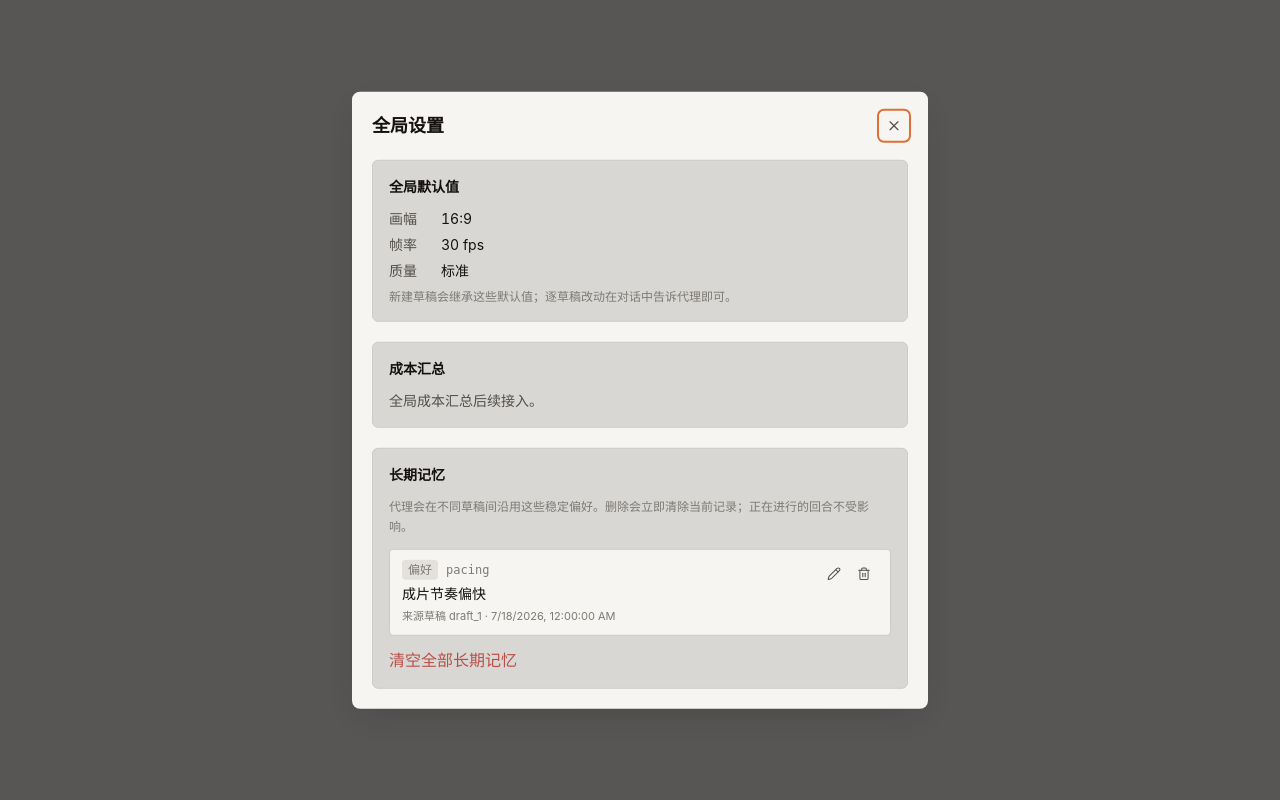
Scenario: WorkspaceSettingsDialog 长期记忆就地编辑 › 保存失败保留编辑态与草稿文本，并显示错误提示
expect the text "成片节奏偏快" is shown: met, box [402, 585, 486, 602]
Click the button named "编辑长期记忆 pacing".
click(834, 574)  # box [820, 560, 848, 588]
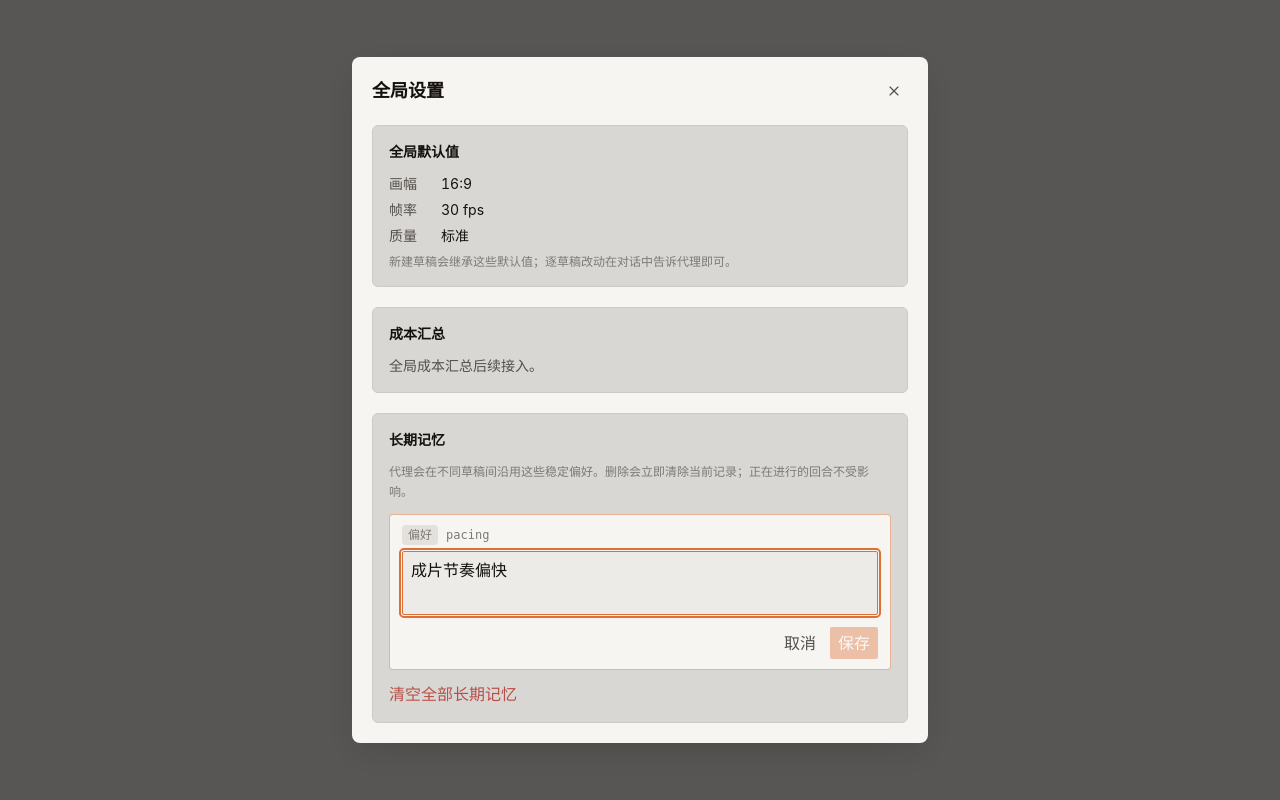
Replace the text in the text box named "编辑长期记忆 pacing" with "改了一半的草稿" at coordinates (640, 583), box [402, 551, 878, 615]
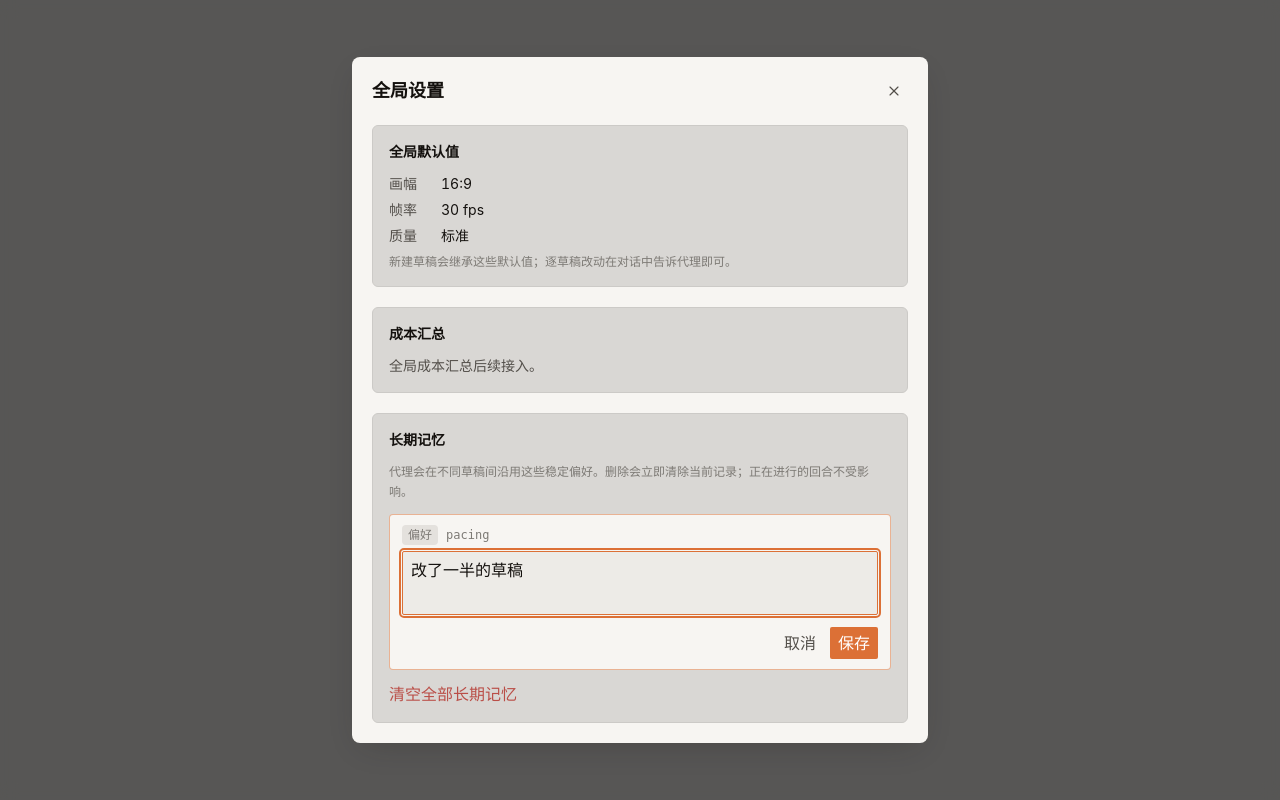
Click the button "保存".
click(854, 643)  # box [830, 627, 878, 659]
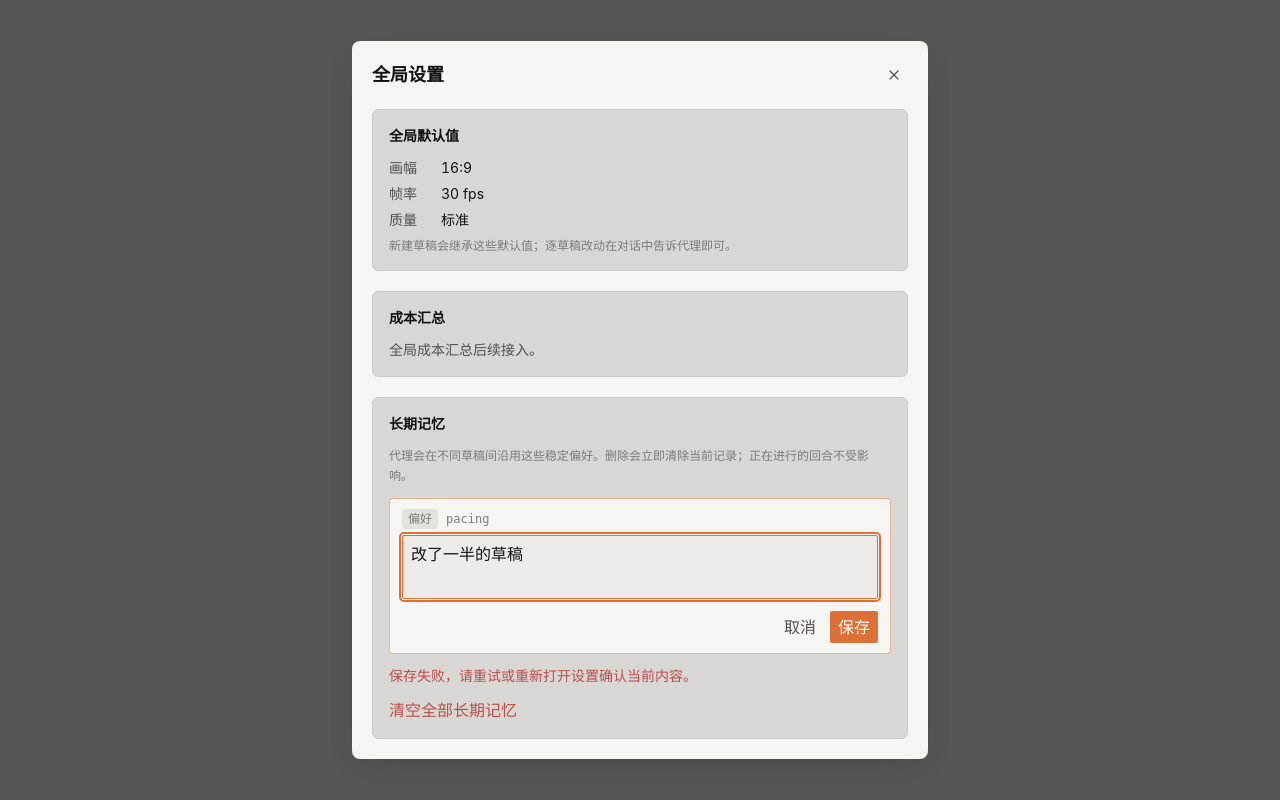
expect the text "保存失败，请重试或重新打开设置确认当前内容。" is shown: met, box [389, 667, 697, 684]
